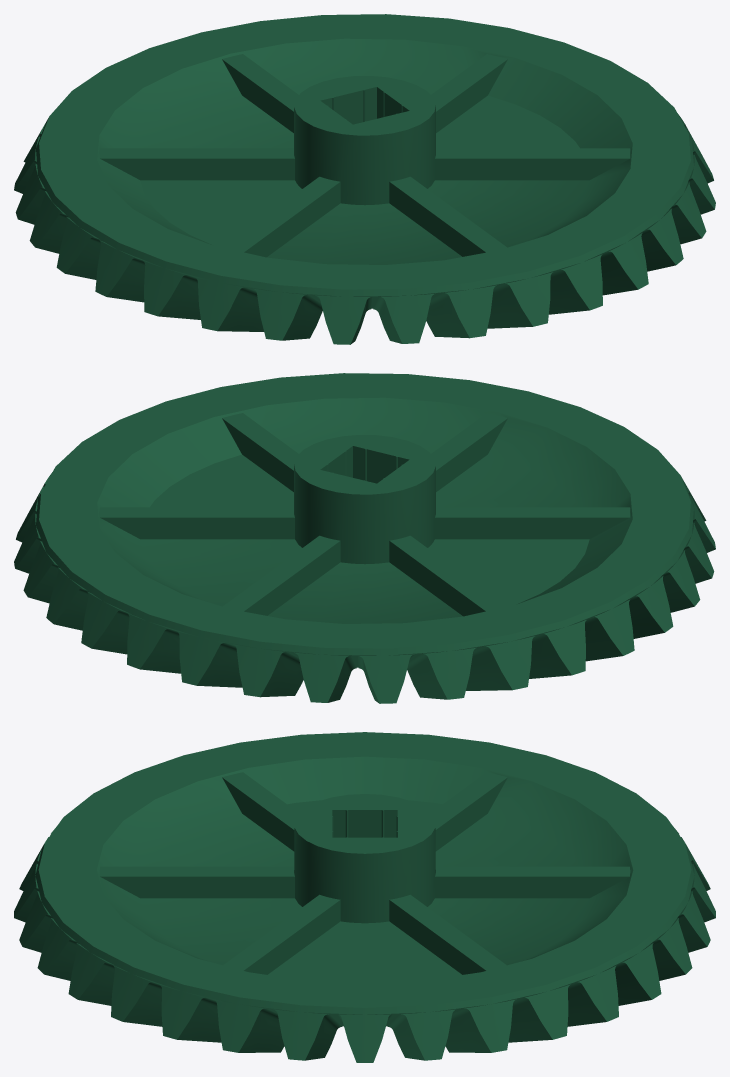
File: 32t-bevel-gear.glb
3 views of the same model, one above another, from view 1: azimuth 30°, elevation 25°; view 2: azimuth 150°, elevation 25°; view 3: azimuth 270°, elevation 25° (orthographic).
Visible parts, largest first — view 1: 276-2045-052 Rev1; view 2: 276-2045-052 Rev1; view 3: 276-2045-052 Rev1.
Boxes of the visible parts, x1,y1,x2,y2 form: 276-2045-052 Rev1: (14,14,715,344); 276-2045-052 Rev1: (14,373,715,703); 276-2045-052 Rev1: (14,732,715,1062).
Size of the model in its own units: 0.0346 by 0.00744 by 0.0346.
